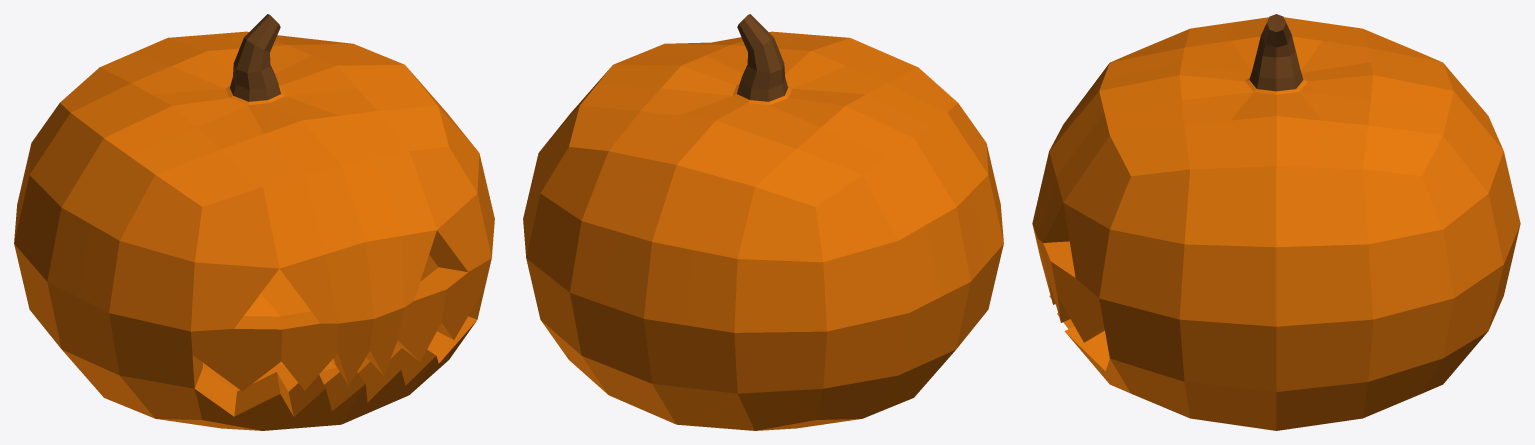
Rendered from Pumpkin.fbx.
3 renders of one model, left to right at view 1: azimuth 30°, elevation 25°; view 2: azimuth 150°, elevation 25°; view 3: azimuth 270°, elevation 25°, orthographic. The views are drawn at different scales.
Parts seen in each view (by area): view 1: Cube; view 2: Cube; view 3: Cube.
Part boxes in pixels (x1,y1,x2,y2): Cube: (14,14,494,430); Cube: (523,14,1003,430); Cube: (1032,14,1520,430).
Size of the model in its own units: 0.7267 by 0.6188 by 0.7267.
